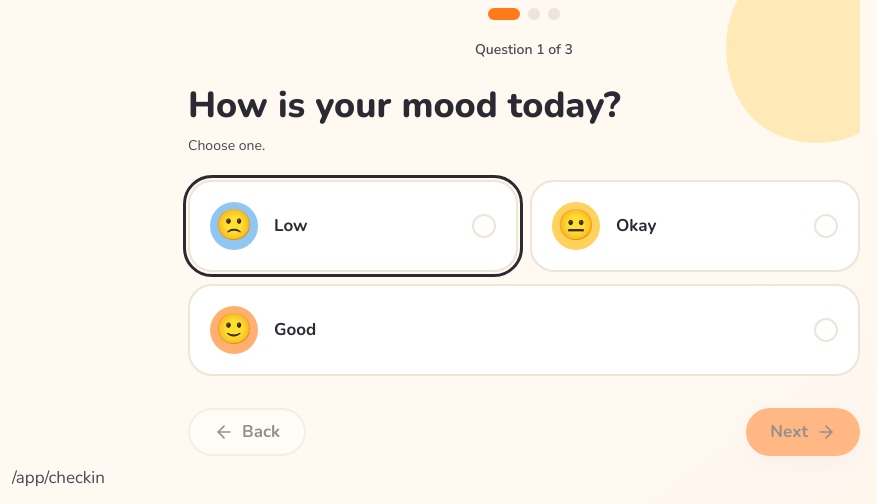
Test: Check-in flow › shows one question at a time and moves forward by tapping an answer
Check: the text "Question 1 of 3" is shown, box [475,40,573,59]
Check: the element "How is your mood today?" is shown, box [188,84,860,376]
Step 1. Click the radio button labelled "Good" → [234, 330], box [188,284,860,376]
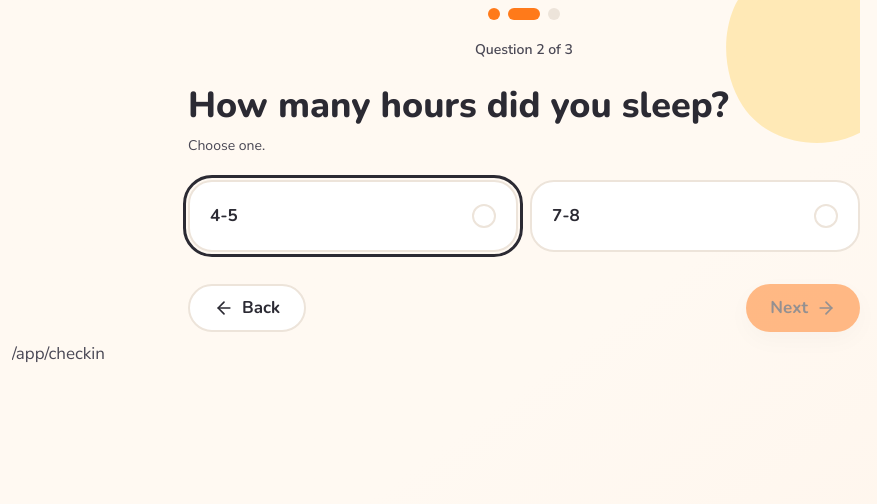
Check: the text "Question 2 of 3" is shown, box [475,40,573,59]
Check: the element "How many hours did you sleep?" is shown, box [188,84,860,252]
